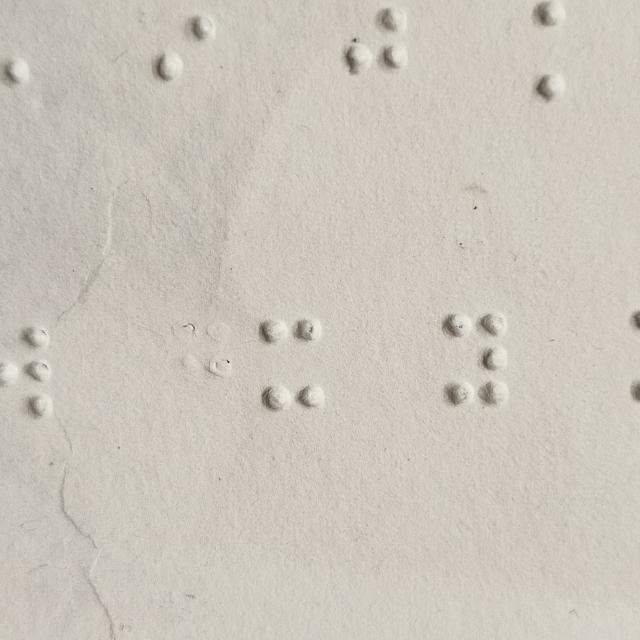one_cell_alphabet_ito: (260, 315, 324, 410)
one_cell_alphabet_yaman: (443, 311, 507, 406)
